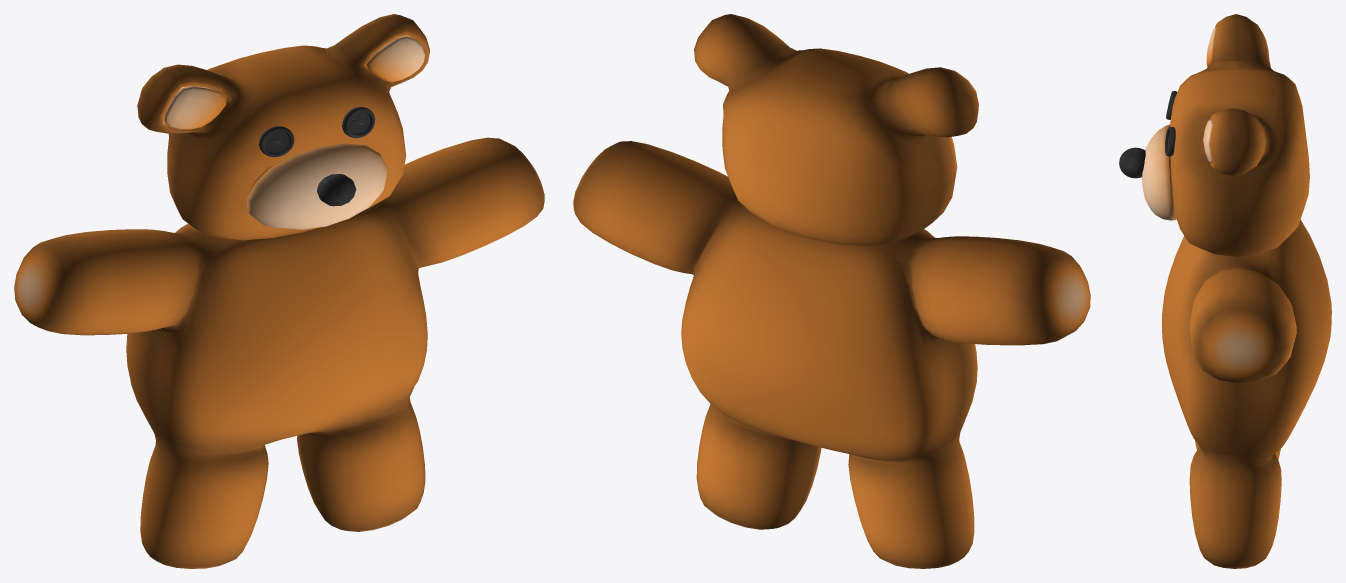
Rendered from teddybear.dae.
3 views of the same model, side by side, from view 1: azimuth 30°, elevation 25°; view 2: azimuth 150°, elevation 25°; view 3: azimuth 270°, elevation 25° (orthographic). The views are drawn at different scales.
Visible parts, largest first — view 1: teddybear6_teddybear, teddybear6_teddybear3_nose, teddybear6_teddybear3_R_button, teddybear6_teddybear3_L_button; view 2: teddybear6_teddybear; view 3: teddybear6_teddybear, teddybear6_teddybear3_nose, teddybear6_teddybear3_L_button.
Part boxes in pixels (<box>): teddybear6_teddybear: <box>14,14,544,568</box>; teddybear6_teddybear3_nose: <box>317,174,356,206</box>; teddybear6_teddybear3_R_button: <box>258,126,294,157</box>; teddybear6_teddybear3_L_button: <box>342,107,375,138</box>; teddybear6_teddybear: <box>573,14,1090,568</box>; teddybear6_teddybear: <box>1142,14,1331,568</box>; teddybear6_teddybear3_nose: <box>1119,147,1145,178</box>; teddybear6_teddybear3_L_button: <box>1165,127,1175,156</box>.
Bounding box in the file's own units: 0.5796 × 0.5513 × 0.2324.
4 materials, 4 textured.
